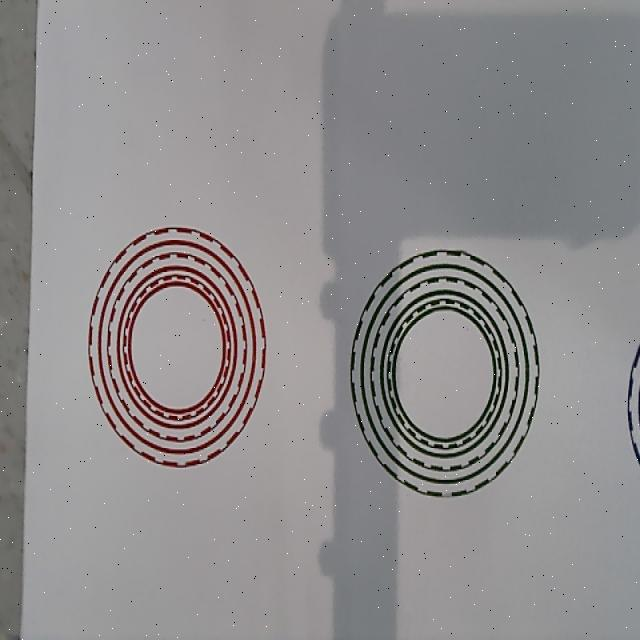g: (350, 248, 540, 498)
red-green-blue: (87, 226, 267, 469)
